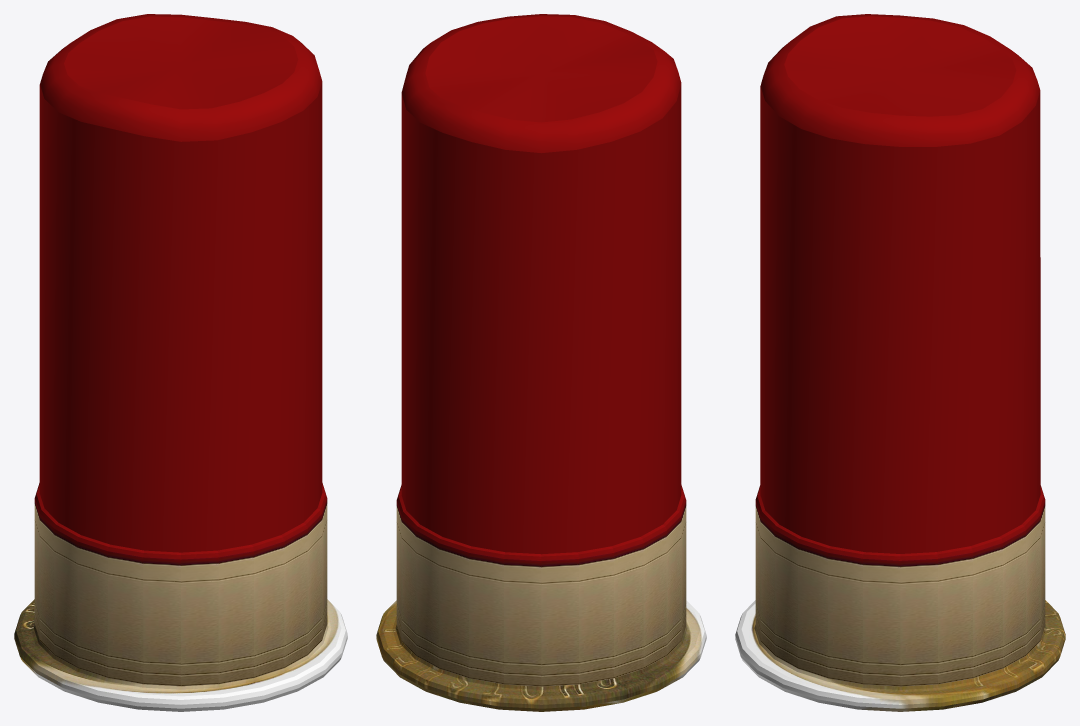
File: shotgun_shell.fbx
3 views of the same model, side by side, from view 1: azimuth 30°, elevation 25°; view 2: azimuth 150°, elevation 25°; view 3: azimuth 270°, elevation 25° (orthographic).
Visible parts, largest first — view 1: Cylinder_1, Cylinder; view 2: Cylinder_1, Cylinder; view 3: Cylinder_1, Cylinder.
Boxes of the visible parts, x1=… form: Cylinder_1: x1=39, y1=14, x2=322, y2=552; Cylinder: x1=14, y1=483, x2=347, y2=711; Cylinder_1: x1=401, y1=14, x2=681, y2=554; Cylinder: x1=376, y1=485, x2=706, y2=711; Cylinder_1: x1=760, y1=14, x2=1040, y2=553; Cylinder: x1=735, y1=485, x2=1065, y2=711.
Bounding box in the file's own units: 6.85 × 13.43 × 6.85.
Materials: 2 (1 with a texture image).
